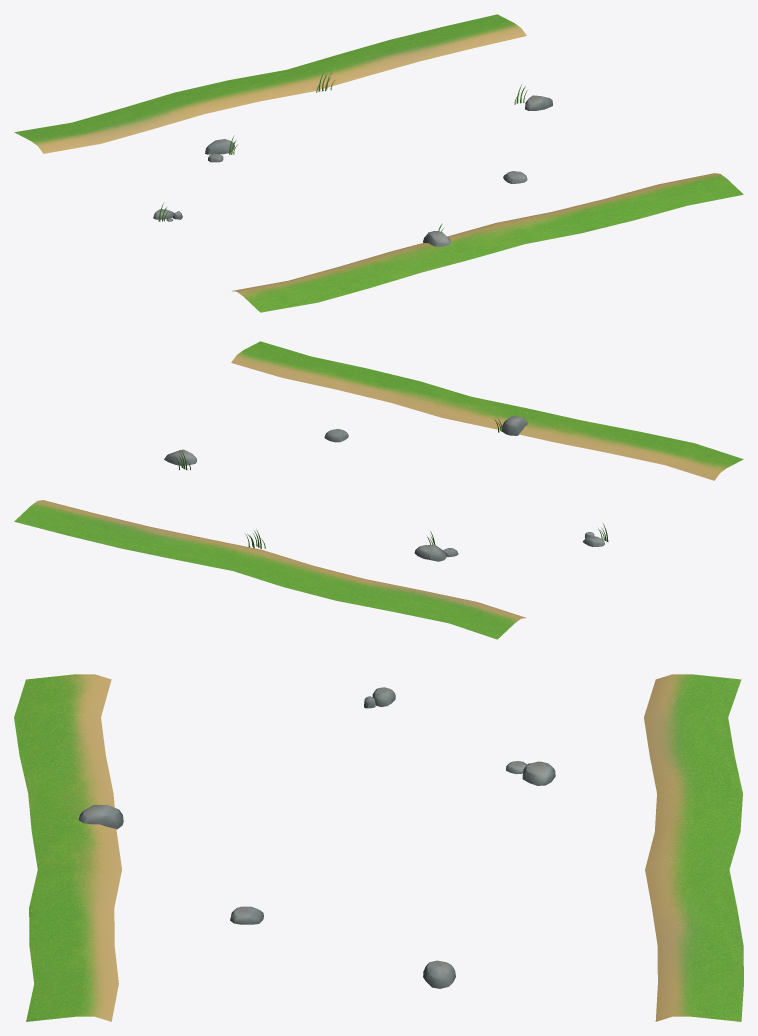
Rendered from River.FBX.
3 views of the same model, one above another, from view 1: azimuth 30°, elevation 25°; view 2: azimuth 150°, elevation 25°; view 3: azimuth 270°, elevation 25° (orthographic). The views are drawn at different scales.
Parts seen in each view (by area): view 1: Plane002; view 2: Plane002; view 3: Plane002.
Boxes of the visible parts, x1=… form: Plane002: x1=14, y1=14, x2=743, y2=312; Plane002: x1=14, y1=341, x2=743, y2=639; Plane002: x1=14, y1=674, x2=743, y2=1021.
Size of the model in its own units: 70 by 3.06 by 63.05.
